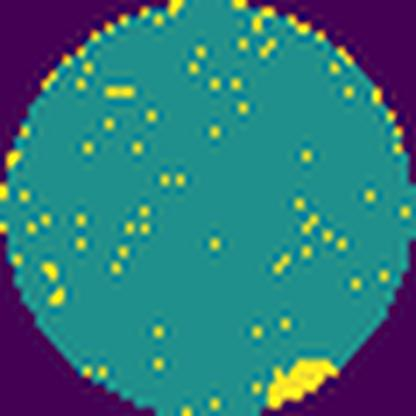Edge-Loc: (259, 352, 348, 416)
